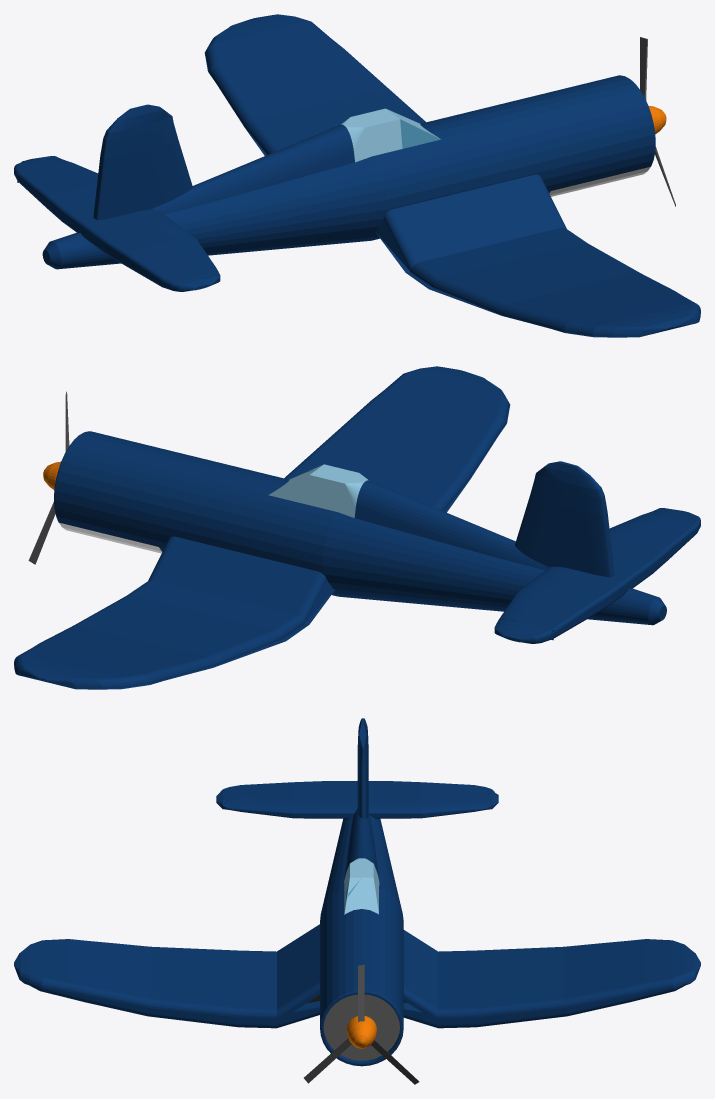
The model's file is F4U definitive.fbx.
3 renders of one model, top to bottom at view 1: azimuth 30°, elevation 25°; view 2: azimuth 150°, elevation 25°; view 3: azimuth 270°, elevation 25°, orthographic. The views are drawn at different scales.
Visible parts, largest first — view 1: Cylinder.004; view 2: Cylinder.004; view 3: Cylinder.004.
Part boxes in pixels (x1,y1,x2,y2): Cylinder.004: (14, 14, 700, 337); Cylinder.004: (14, 366, 700, 689); Cylinder.004: (14, 718, 700, 1084).
Size of the model in its own units: 1638 by 505 by 1928.
